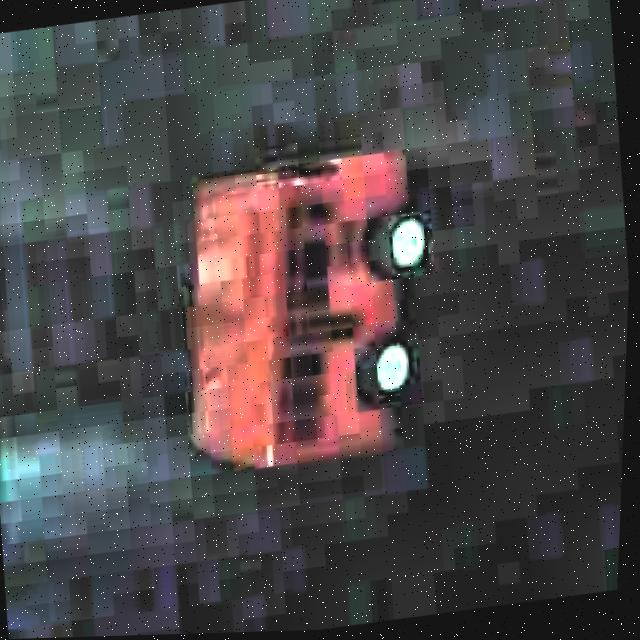bus: (151, 133, 468, 485)
